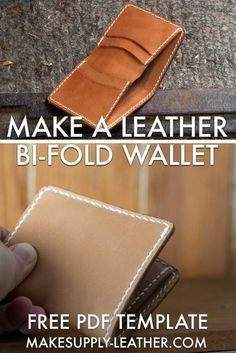cuero: (4, 4, 184, 343)
